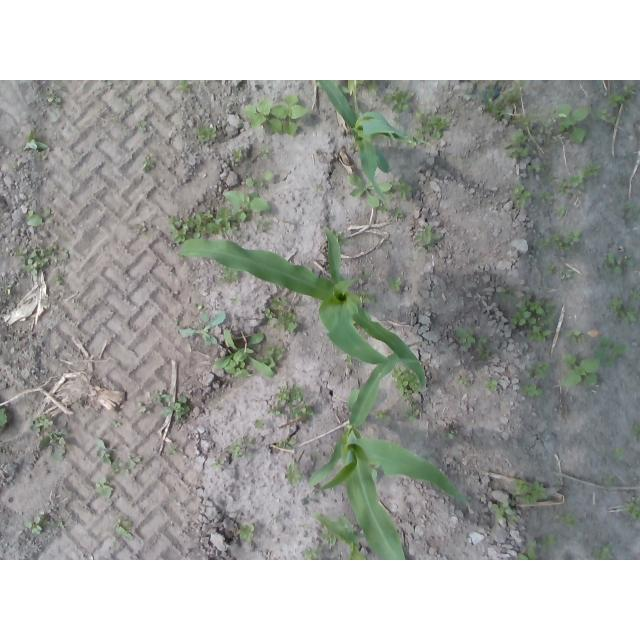Maize: (176, 223, 430, 389), (309, 340, 472, 560), (317, 80, 407, 209), (313, 512, 367, 561)
Weeds: (214, 329, 285, 377), (168, 206, 249, 244), (245, 95, 308, 138), (537, 103, 591, 145), (179, 306, 226, 347), (15, 244, 69, 276), (510, 294, 559, 328), (267, 384, 314, 418), (347, 173, 392, 207), (558, 161, 601, 195), (560, 354, 600, 387), (391, 363, 424, 402), (35, 429, 69, 463), (153, 391, 191, 421), (414, 109, 450, 140), (531, 229, 581, 251), (264, 299, 297, 332), (594, 336, 627, 368), (512, 476, 547, 506), (225, 190, 272, 212), (607, 297, 640, 324), (604, 251, 637, 276), (382, 86, 410, 115), (24, 129, 49, 159), (415, 224, 441, 252), (504, 129, 529, 158), (607, 84, 637, 108), (224, 437, 254, 459), (492, 500, 519, 521), (93, 438, 112, 466), (510, 185, 533, 207), (284, 462, 305, 486), (528, 161, 556, 179), (517, 538, 539, 560), (245, 172, 273, 189), (592, 107, 617, 126), (112, 456, 141, 472), (527, 360, 550, 380), (25, 517, 48, 536), (115, 517, 134, 540), (26, 210, 51, 227), (393, 177, 412, 199), (196, 124, 219, 142), (95, 475, 113, 498), (623, 496, 640, 520), (555, 512, 580, 528), (456, 327, 475, 348), (32, 415, 53, 434), (354, 80, 378, 96), (219, 265, 240, 283), (528, 326, 553, 341), (563, 330, 587, 345), (592, 544, 613, 561), (237, 523, 256, 541), (477, 335, 490, 361), (320, 524, 336, 545), (521, 383, 543, 397), (301, 546, 322, 560), (40, 92, 62, 105), (403, 406, 422, 421), (357, 291, 377, 304), (542, 534, 557, 551), (276, 438, 297, 450), (537, 190, 556, 203), (142, 153, 155, 171), (387, 277, 402, 292), (335, 231, 349, 246), (484, 377, 498, 391), (375, 410, 390, 423), (0, 406, 8, 429), (177, 80, 191, 93), (620, 202, 636, 213), (259, 146, 272, 159), (232, 148, 245, 160), (559, 269, 573, 280), (632, 423, 640, 441), (137, 120, 148, 133), (629, 290, 640, 302), (615, 446, 626, 458), (602, 475, 614, 486), (255, 419, 266, 430), (444, 429, 455, 440), (392, 207, 404, 217), (377, 203, 389, 213), (499, 289, 511, 299), (556, 205, 567, 215), (344, 355, 354, 365), (211, 460, 223, 468), (547, 264, 556, 274), (168, 445, 177, 455), (4, 285, 12, 295), (259, 220, 270, 227), (459, 379, 468, 387), (55, 278, 63, 287), (11, 162, 21, 169), (141, 231, 152, 237), (56, 518, 64, 526), (556, 476, 563, 485), (600, 447, 607, 455), (112, 421, 120, 428), (317, 185, 323, 191)
